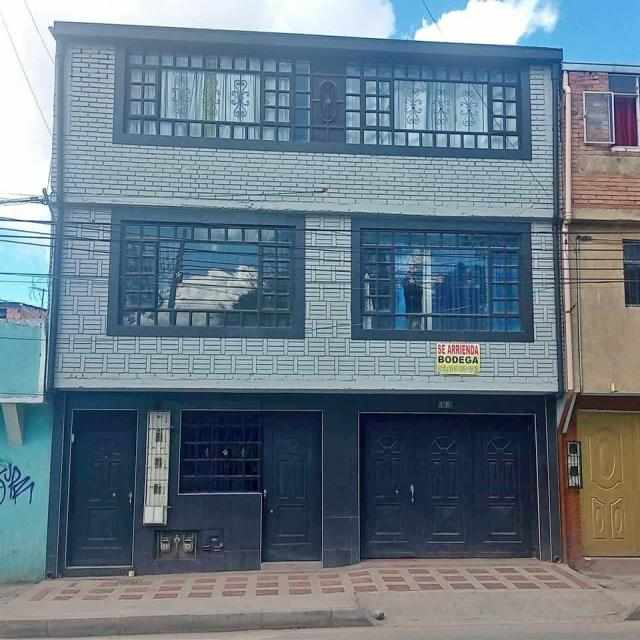Fachada: (43, 22, 563, 577), (556, 63, 639, 565)
